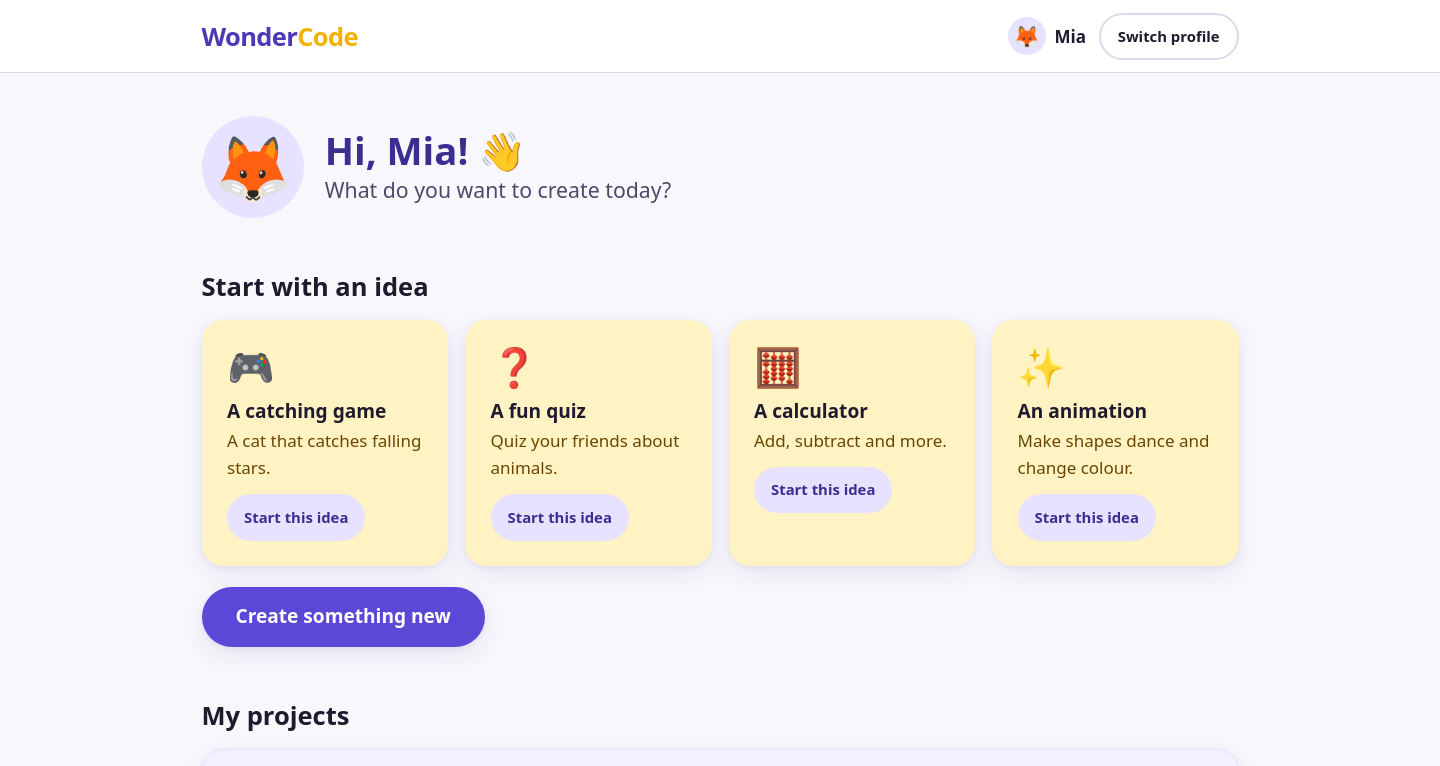
Test case: child dashboard › switches profiles without signing out
Click the button "Switch profile" at (1169, 36), box [1099, 13, 1238, 60]
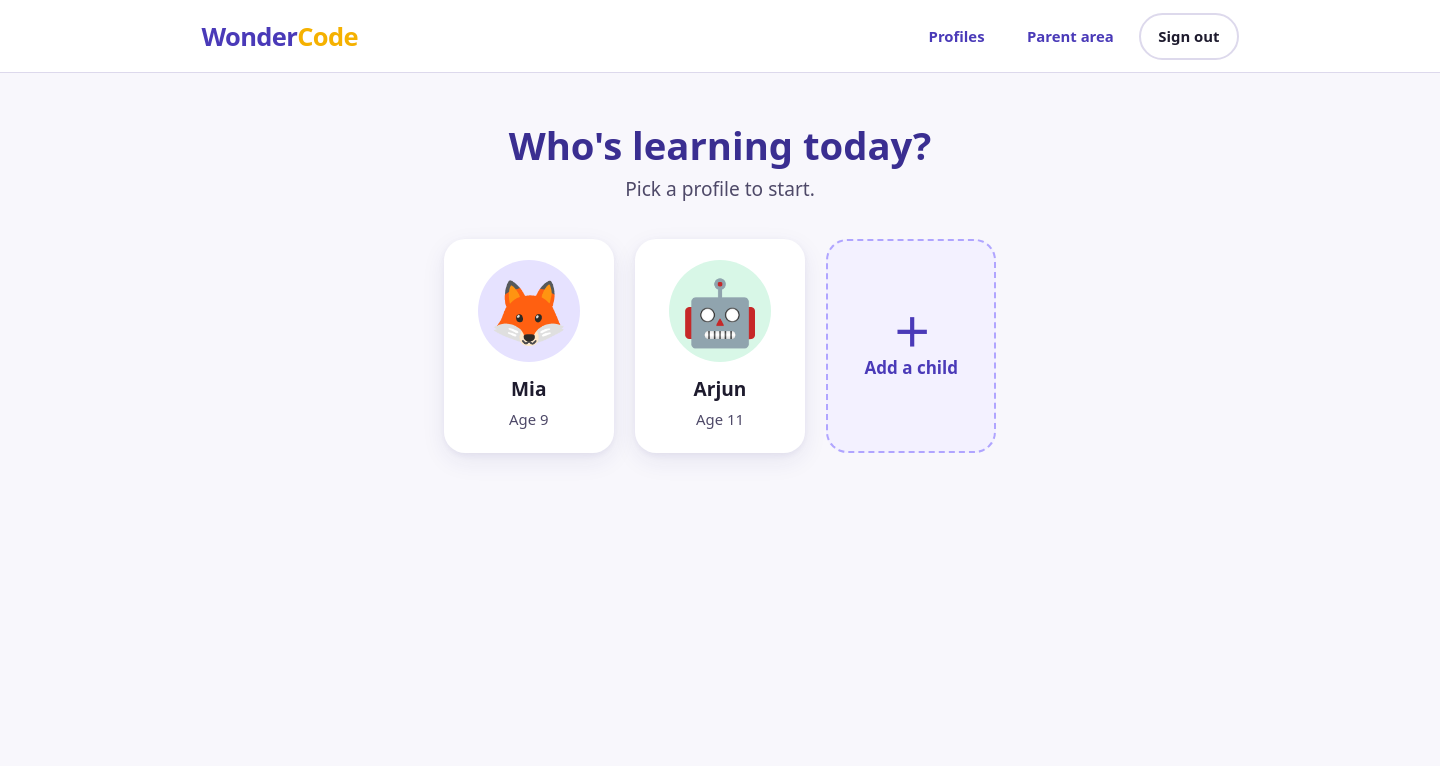
Click the button "🤖 Arjun Age 11" at (720, 346), box [635, 239, 805, 453]
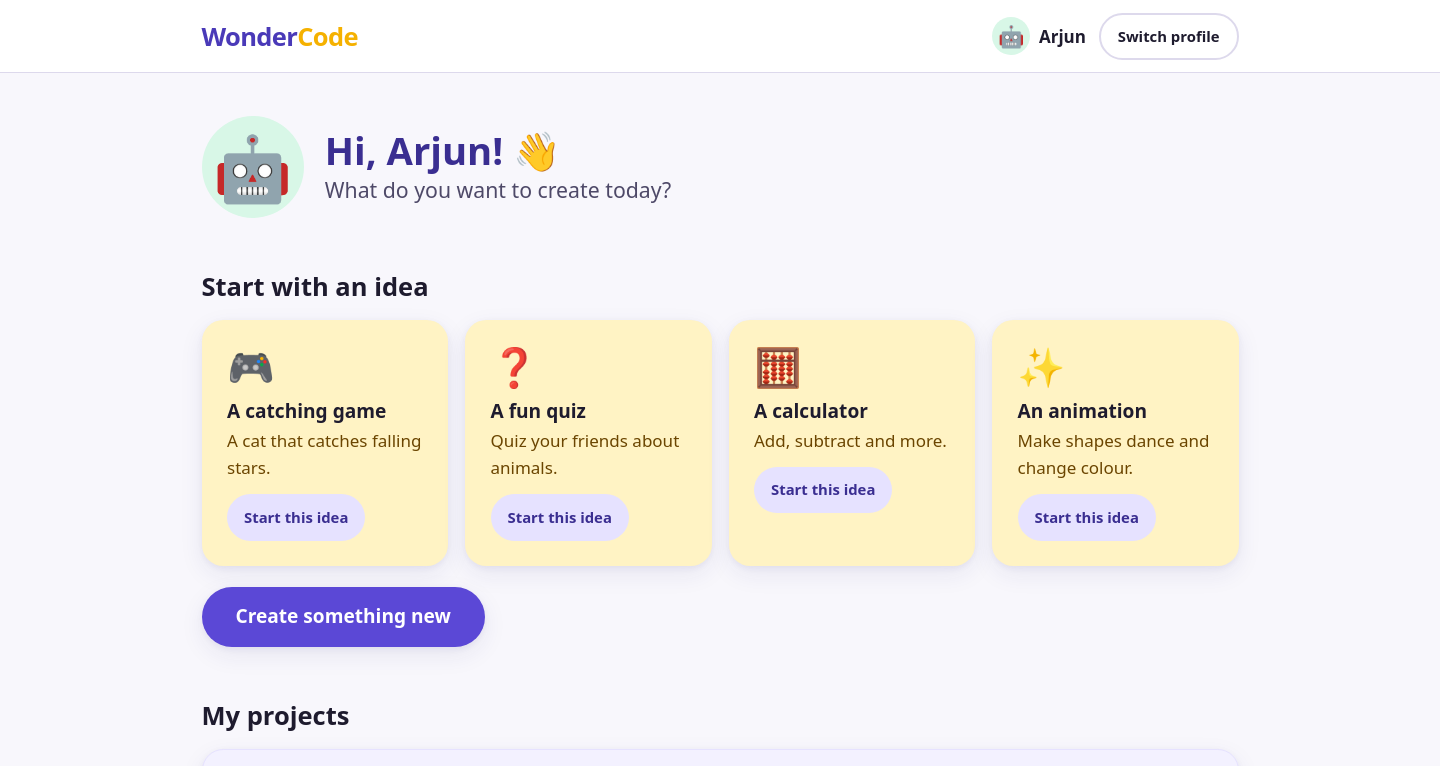
Check: the heading "Hi, Arjun! 👋" is shown, box [325, 124, 561, 176]
Check: the text "Arjun" is shown, box [1039, 22, 1086, 50]
